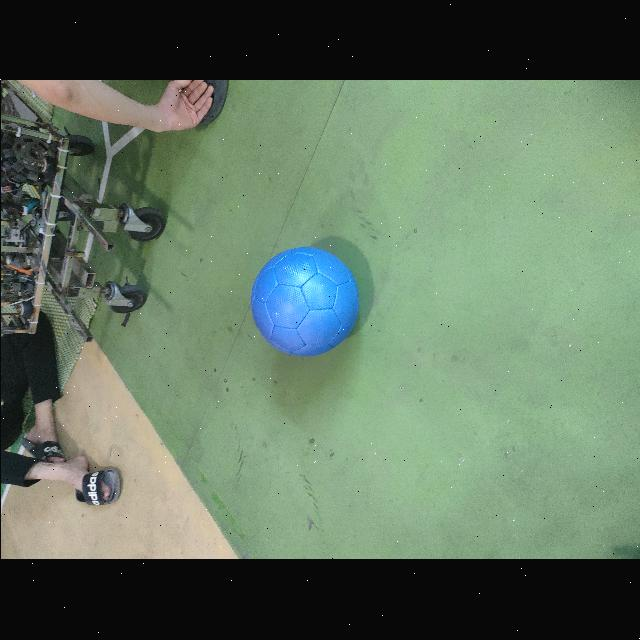B: (250, 245, 362, 358)
